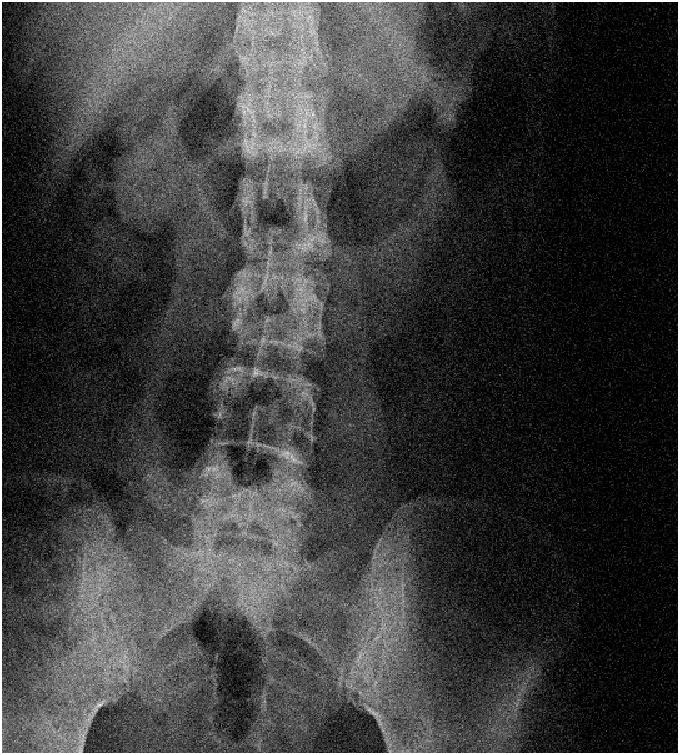lumbar scoliosis: (177, 39, 331, 569)
